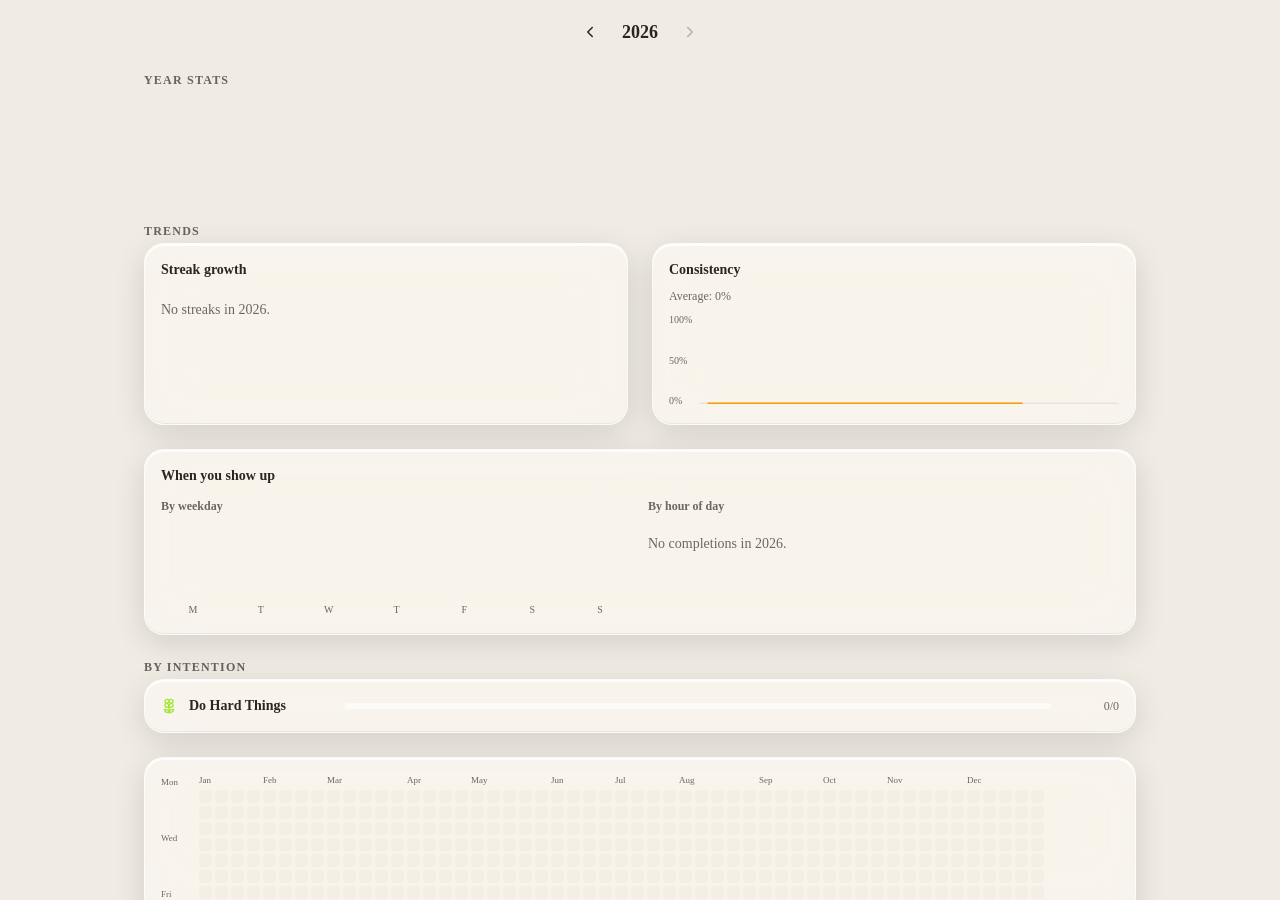
heatmap year switch (R3 §5) › opens a past year at January after the current year was scrolled
Click the button named "Previous year" at (590, 32), box [570,12,610,52]
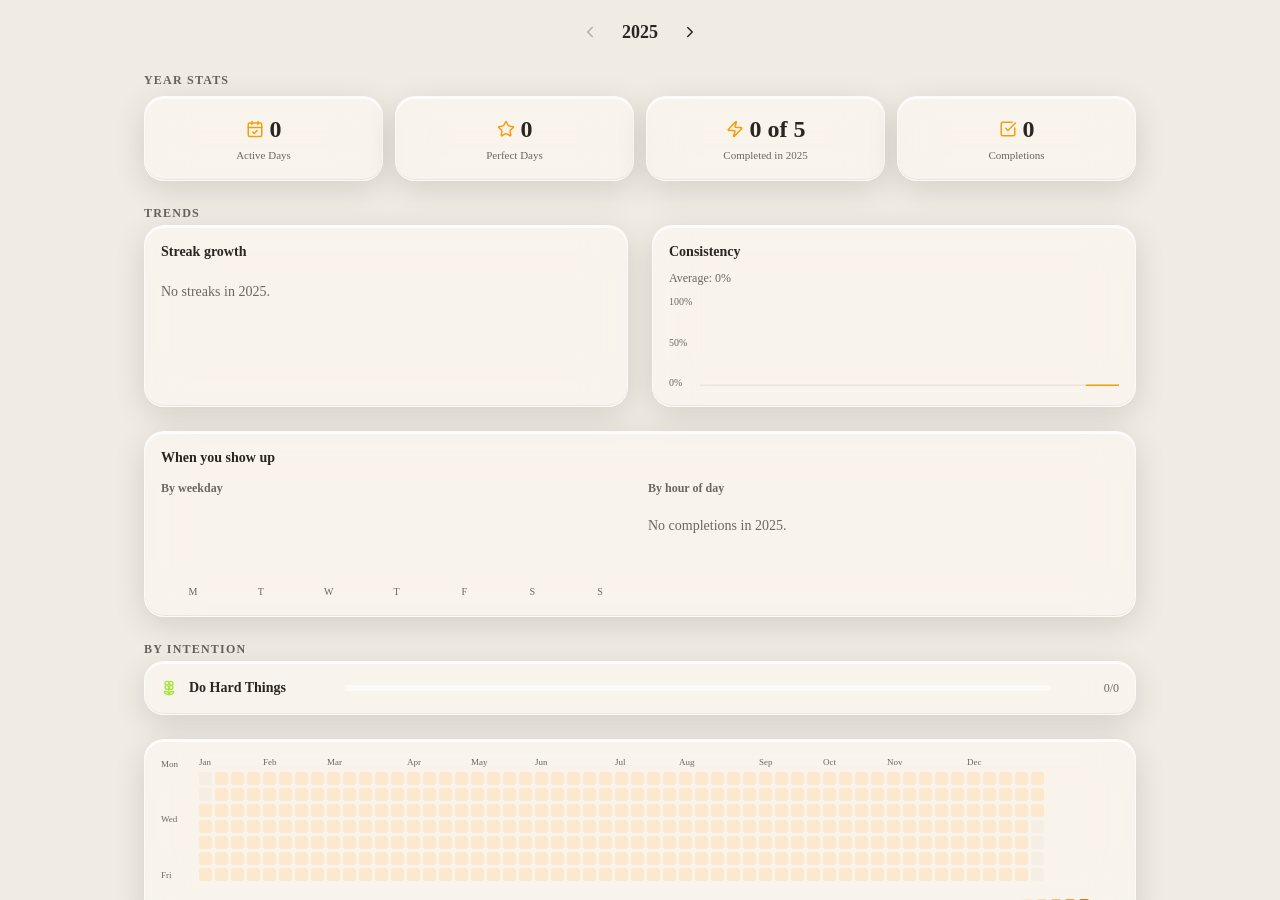
Expected: the text "Completed in 2025" is shown, [723,147,808,164]
